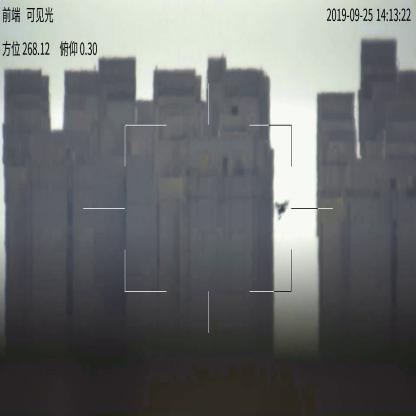uav: (274, 198, 289, 221)
